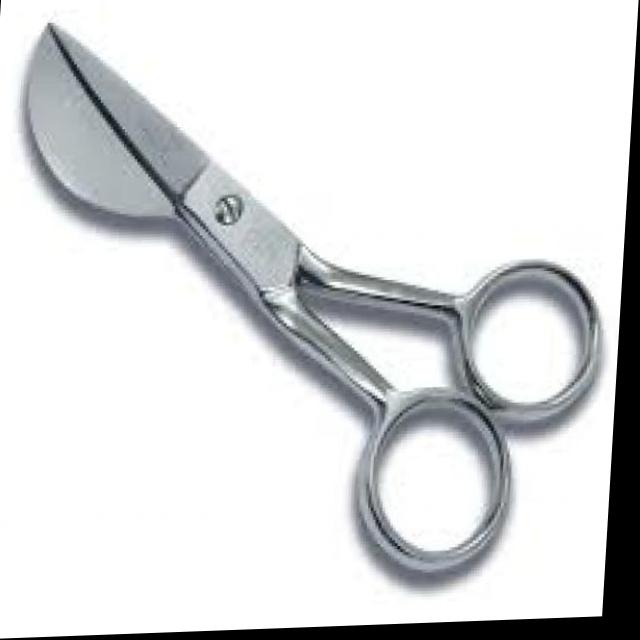scissor: (0, 2, 624, 604)
